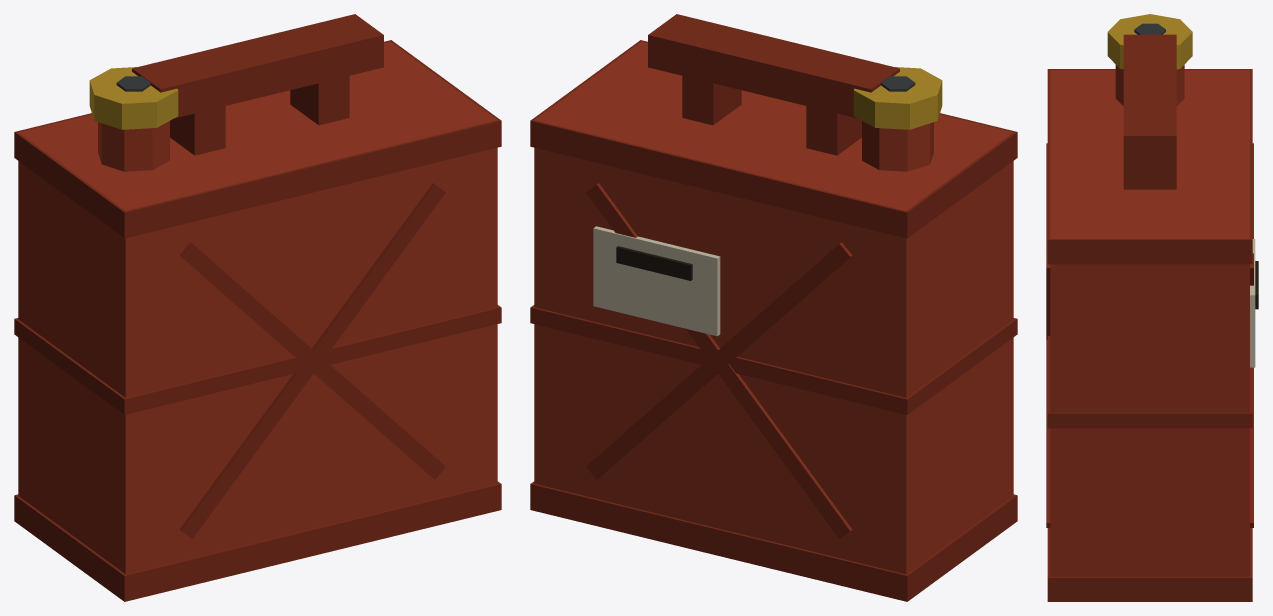
The model's file is tool_fuel_can.glb.
3 renders of one model, left to right at view 1: azimuth 30°, elevation 25°; view 2: azimuth 150°, elevation 25°; view 3: azimuth 270°, elevation 25°, orthographic. The views are drawn at different scales.
Parts seen in each view (by area): view 1: FuelCan; view 2: FuelCan; view 3: FuelCan.
Boxes of the visible parts, x1=… form: FuelCan: x1=14, y1=14, x2=501, y2=601; FuelCan: x1=530, y1=14, x2=1017, y2=601; FuelCan: x1=1046, y1=14, x2=1258, y2=601.
Size of the model in its own units: 0.304 by 0.3575 by 0.1595.
